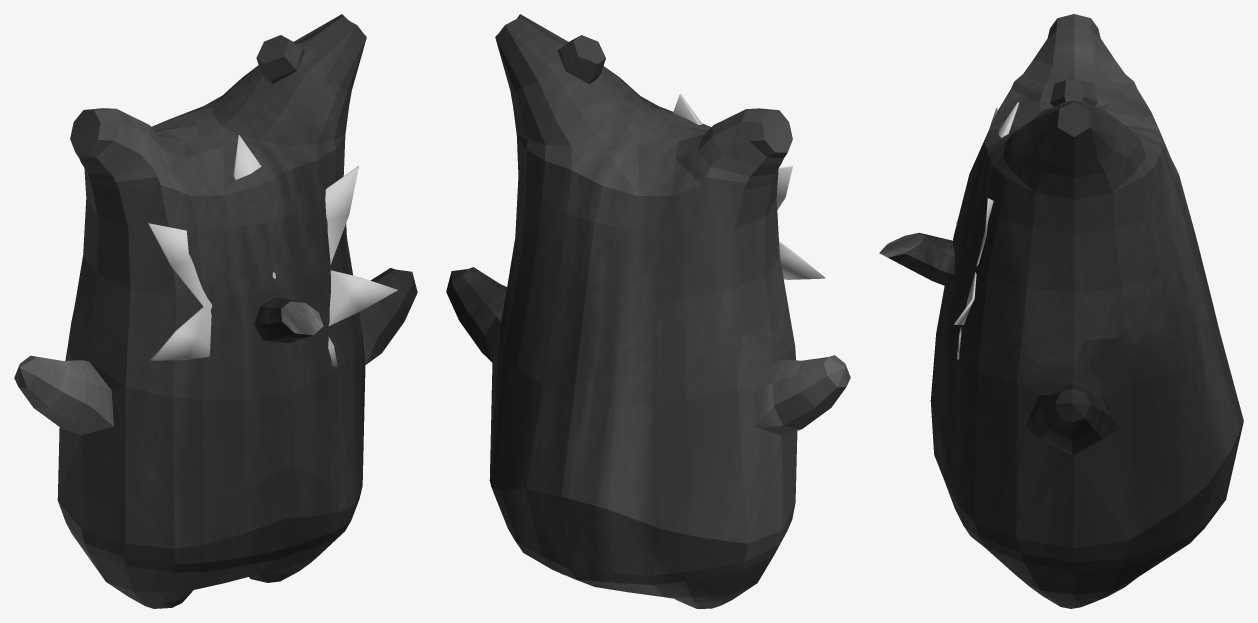
The model's file is frame_0070.obj.
3 renders of one model, left to right at view 1: azimuth 30°, elevation 25°; view 2: azimuth 150°, elevation 25°; view 3: azimuth 270°, elevation 25°, orthographic.
Parts seen in each view (by area): view 1: korok, leaf.003_柱体.013, nose.003_柱体.011; view 2: korok, leaf.003_柱体.013; view 3: korok, nose.003_柱体.011, leaf.003_柱体.013.
Boxes of the visible parts, x1,y1,x2,y2 form: korok: [14, 14, 417, 608]; leaf.003_柱体.013: [148, 135, 397, 366]; nose.003_柱体.011: [254, 297, 323, 343]; korok: [446, 14, 850, 608]; leaf.003_柱体.013: [673, 93, 825, 279]; korok: [930, 14, 1243, 608]; nose.003_柱体.011: [879, 232, 954, 287]; leaf.003_柱体.013: [954, 102, 1019, 359].
Bounding box in the file's own units: 1.69 × 2.22 × 1.36.
